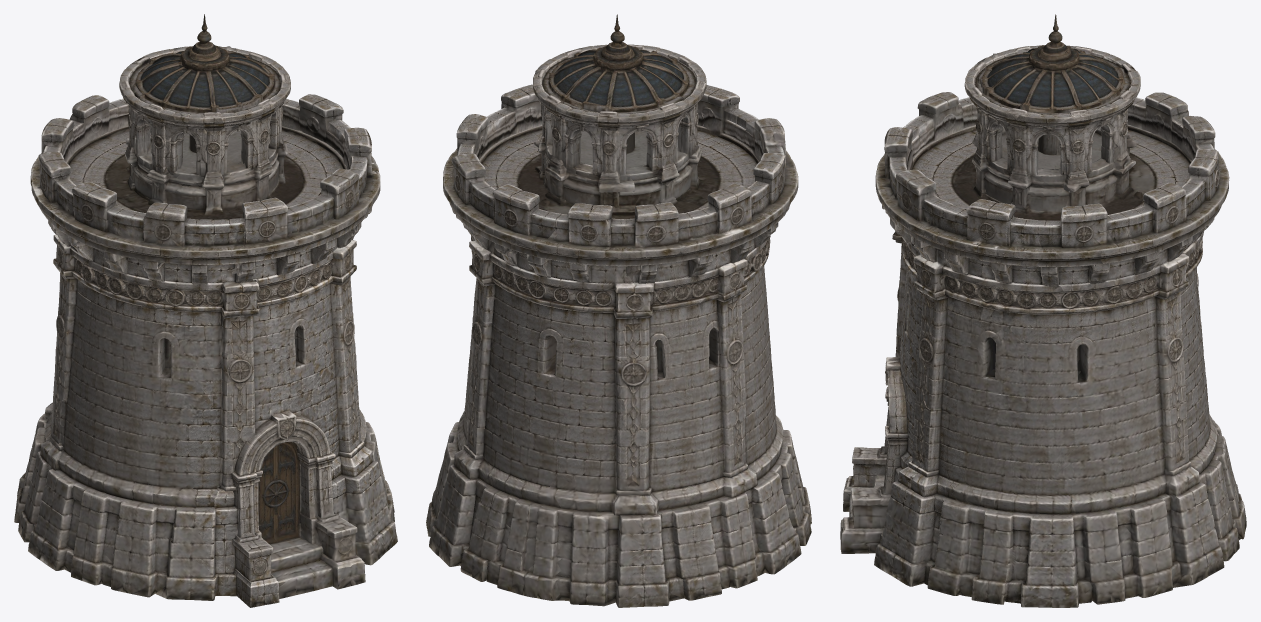
File: citadel_tower.glb
3 renders of one model, left to right at view 1: azimuth 30°, elevation 25°; view 2: azimuth 150°, elevation 25°; view 3: azimuth 270°, elevation 25°, orthographic.
Visible parts, largest first — view 1: citadel_tower; view 2: citadel_tower; view 3: citadel_tower.
Boxes of the visible parts, box(x1,y1,x2,y2) form: citadel_tower: box(14, 14, 397, 607); citadel_tower: box(426, 14, 811, 607); citadel_tower: box(840, 14, 1246, 607).
Size of the model in its own units: 1.3 by 1.9 by 1.37.
1 material, 1 textured.
